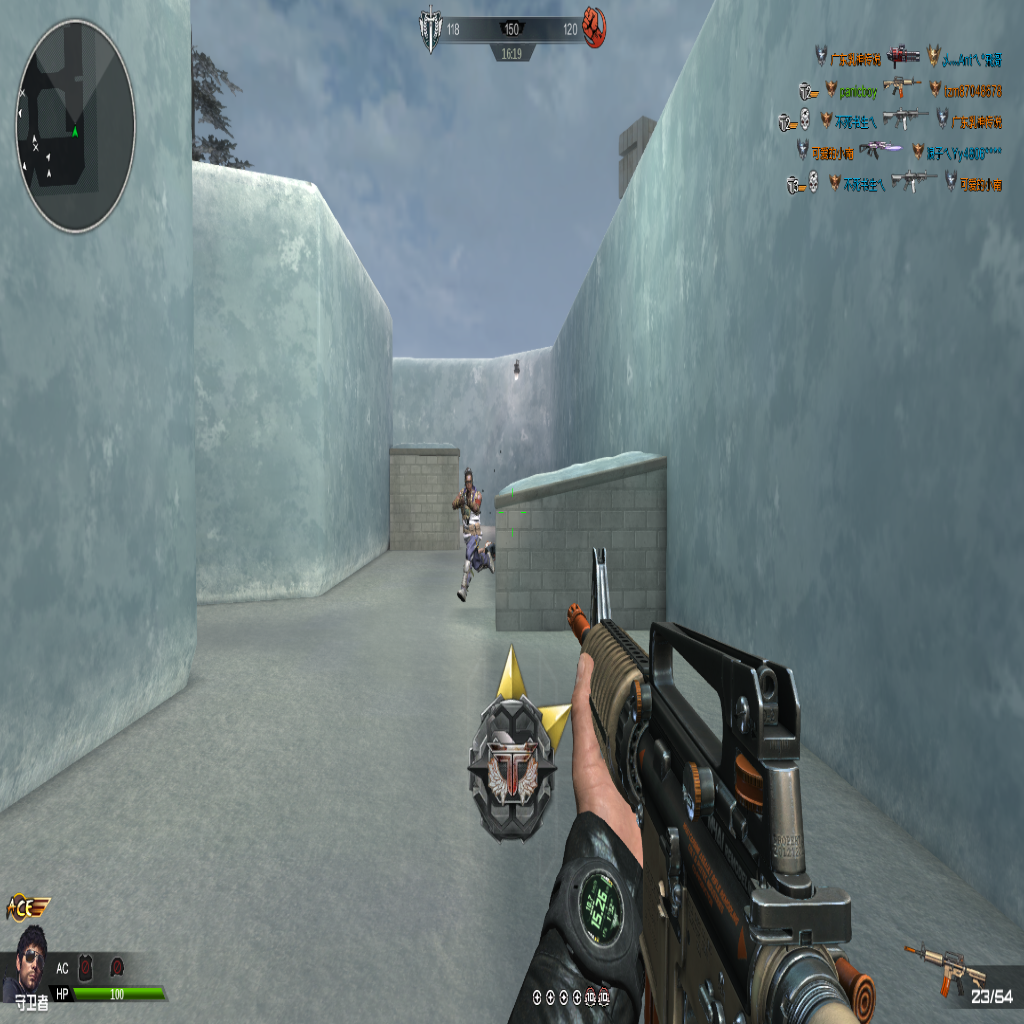tt: (451, 463, 490, 596)
